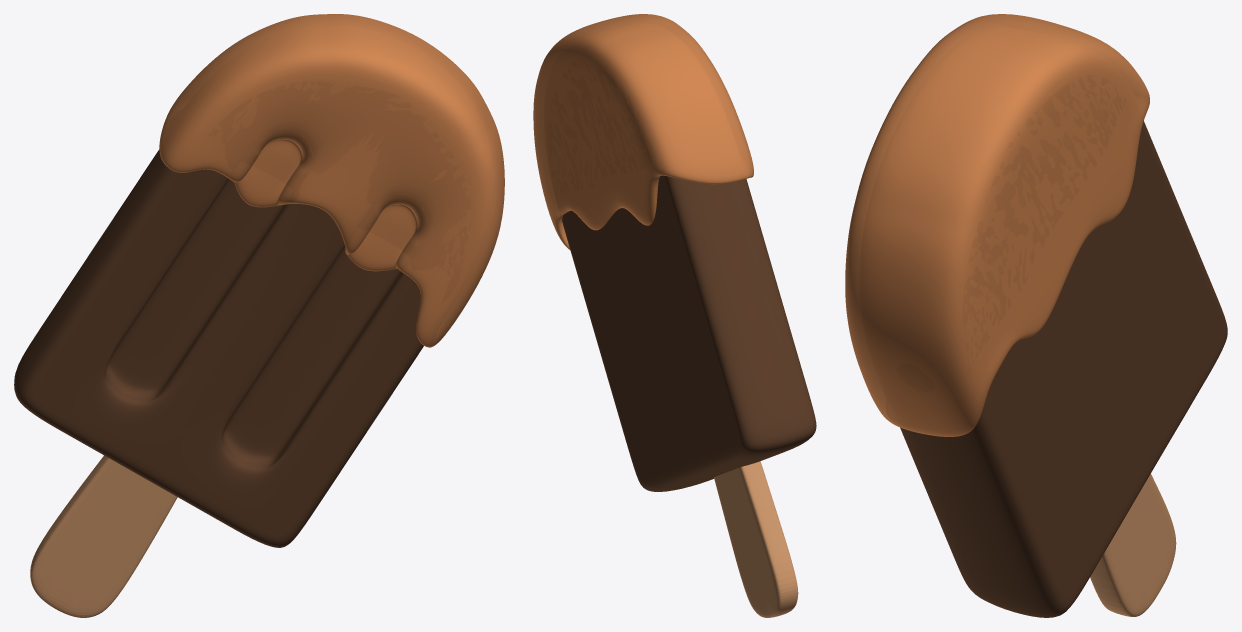
File: Ice Cream.fbx
3 renders of one model, left to right at view 1: azimuth 30°, elevation 25°; view 2: azimuth 150°, elevation 25°; view 3: azimuth 270°, elevation 25°, orthographic. The views are drawn at different scales.
Parts seen in each view (by area): view 1: Cylinder.002_Cylinder.039, Cylinder.003_Cylinder.041, Plane.018_Plane.143; view 2: Cylinder.002_Cylinder.039, Cylinder.003_Cylinder.041, Plane.018_Plane.143; view 3: Cylinder.003_Cylinder.041, Cylinder.002_Cylinder.039, Plane.018_Plane.143.
Boxes of the visible parts, x1,y1,x2,y2 form: Cylinder.002_Cylinder.039: [14, 149, 423, 547]; Cylinder.003_Cylinder.041: [159, 14, 504, 347]; Plane.018_Plane.143: [30, 455, 177, 617]; Cylinder.002_Cylinder.039: [562, 175, 816, 491]; Cylinder.003_Cylinder.041: [533, 14, 753, 249]; Plane.018_Plane.143: [714, 461, 798, 617]; Cylinder.003_Cylinder.041: [845, 14, 1149, 436]; Cylinder.002_Cylinder.039: [900, 121, 1227, 617]; Plane.018_Plane.143: [1090, 473, 1176, 616].
Size of the model in its own units: 125 by 174 by 87.16.
